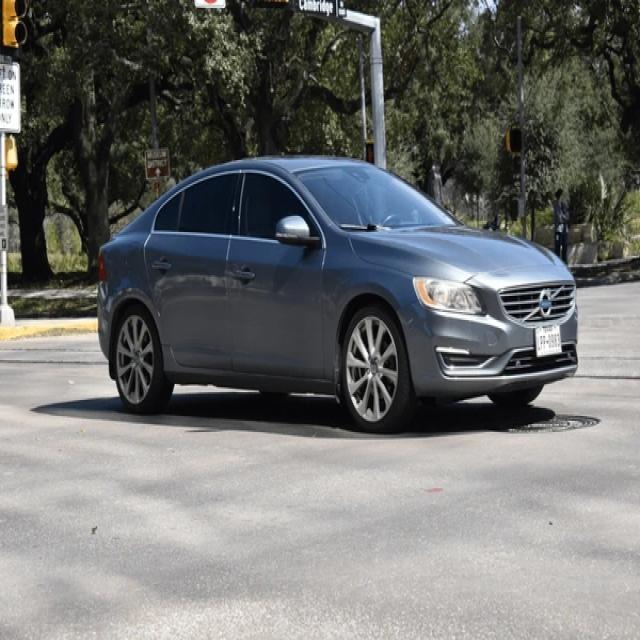volvo: (537, 288, 556, 317)
